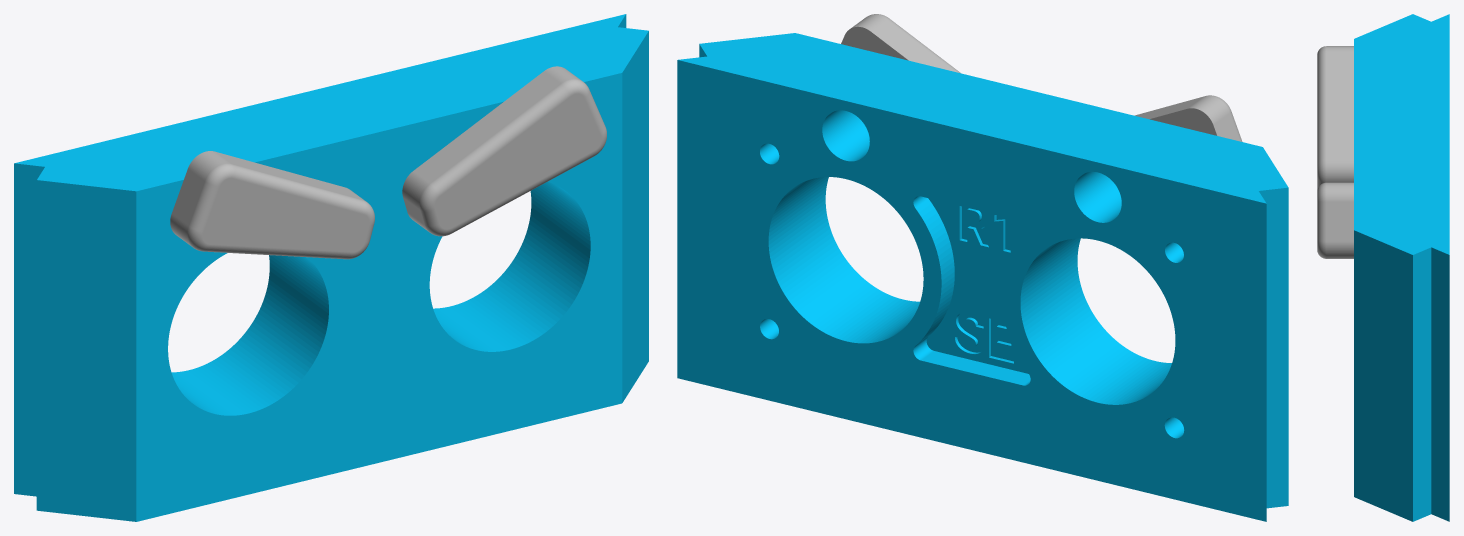
File: FaceUS_eyebrows_angry.glb
3 views of the same model, side by side, from view 1: azimuth 30°, elevation 25°; view 2: azimuth 150°, elevation 25°; view 3: azimuth 270°, elevation 25° (orthographic). The views are drawn at different scales.
Parts seen in each view (by area): view 1: Node1, Node2; view 2: Node1, Node2; view 3: Node1, Node2.
Boxes of the visible parts, left/top/right/bottom form: Node1: left=14, top=14, right=648, bottom=521; Node2: left=170, top=66, right=606, bottom=259; Node1: left=677, top=33, right=1288, bottom=521; Node2: left=841, top=14, right=1242, bottom=141; Node1: left=1354, top=14, right=1449, bottom=521; Node2: left=1317, top=46, right=1353, bottom=258.
Size of the model in its own units: 62 by 34.21 by 14.4.
